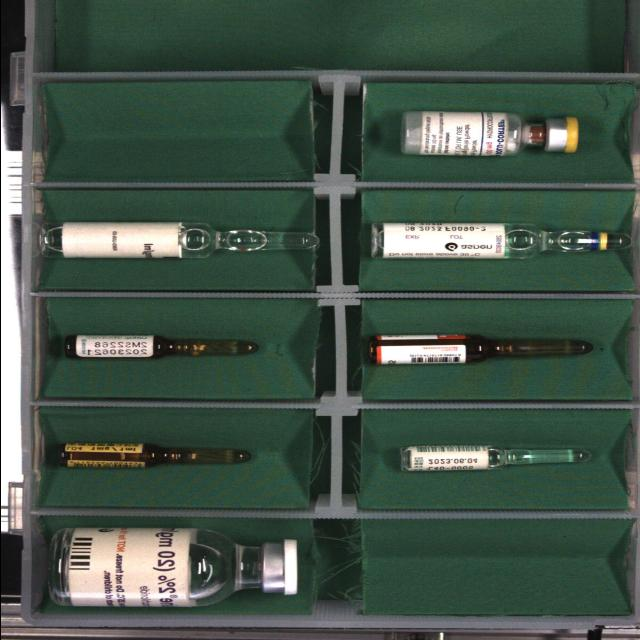Vials: (48, 529, 297, 607), (400, 111, 578, 156)
